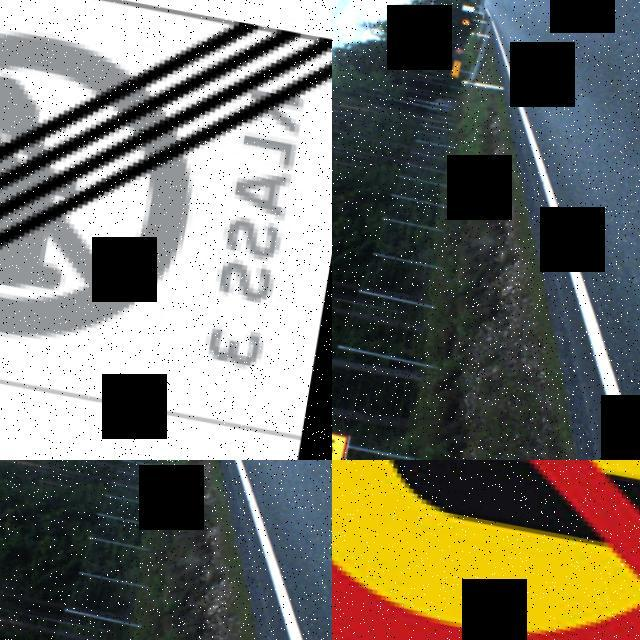110: (0, 0, 332, 435)
173: (449, 56, 464, 76)
36: (460, 13, 472, 24)
no turning left: (332, 460, 640, 640)
